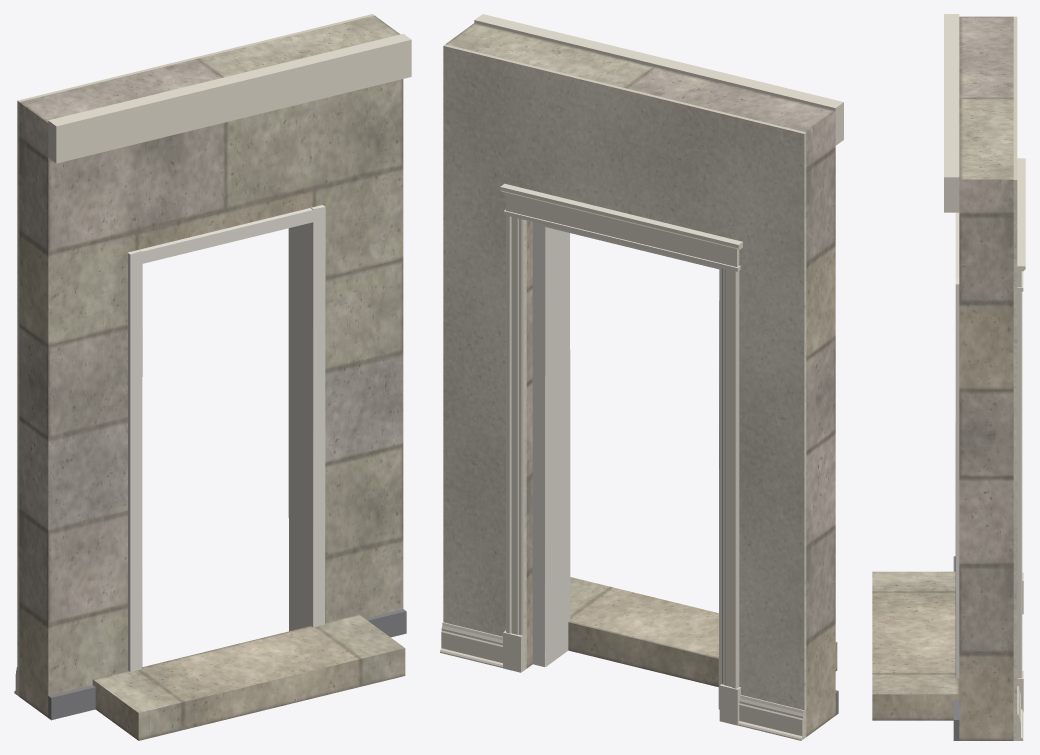
The model's file is wall_ground_door.glb.
3 renders of one model, left to right at view 1: azimuth 30°, elevation 25°; view 2: azimuth 150°, elevation 25°; view 3: azimuth 270°, elevation 25°, orthographic. The views are drawn at different scales.
Parts seen in each view (by area): view 1: wall_ground_door_stone, wall_ground_door_frame, wall_ground_door_trim, wall_ground_door_plaster, wall_ground_door_dark; view 2: wall_ground_door_plaster, wall_ground_door_stone, molduras, wall_ground_door_frame, wall_ground_door_trim; view 3: wall_ground_door_stone, molduras, wall_ground_door_plaster, wall_ground_door_trim, wall_ground_door_frame, wall_ground_door_dark.
Part boxes in pixels (bbox=[...]): wall_ground_door_stone: bbox=[19, 15, 405, 740]; wall_ground_door_frame: bbox=[128, 205, 325, 671]; wall_ground_door_trim: bbox=[48, 33, 411, 163]; wall_ground_door_plaster: bbox=[17, 14, 374, 696]; wall_ground_door_dark: bbox=[48, 609, 406, 720]; wall_ground_door_plaster: bbox=[443, 44, 806, 738]; wall_ground_door_stone: bbox=[445, 23, 837, 736]; molduras: bbox=[440, 183, 804, 740]; wall_ground_door_frame: bbox=[532, 222, 721, 709]; wall_ground_door_trim: bbox=[474, 14, 843, 145]; wall_ground_door_stone: bbox=[872, 16, 1013, 740]; molduras: bbox=[1017, 158, 1025, 740]; wall_ground_door_plaster: bbox=[1013, 16, 1017, 740]; wall_ground_door_trim: bbox=[944, 14, 959, 212]; wall_ground_door_frame: bbox=[955, 212, 959, 677]; wall_ground_door_dark: bbox=[953, 556, 959, 740].
Size of the model in its own units: 2 by 3.21 by 0.792.
Materials: 5 (2 with a texture image).
